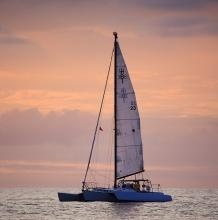fanchuan: (57, 31, 175, 203)
